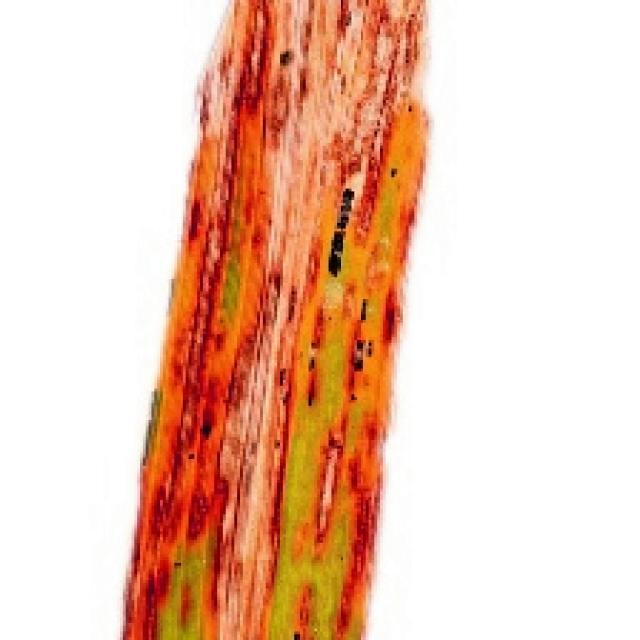Unhealthy: (120, 0, 434, 640)
